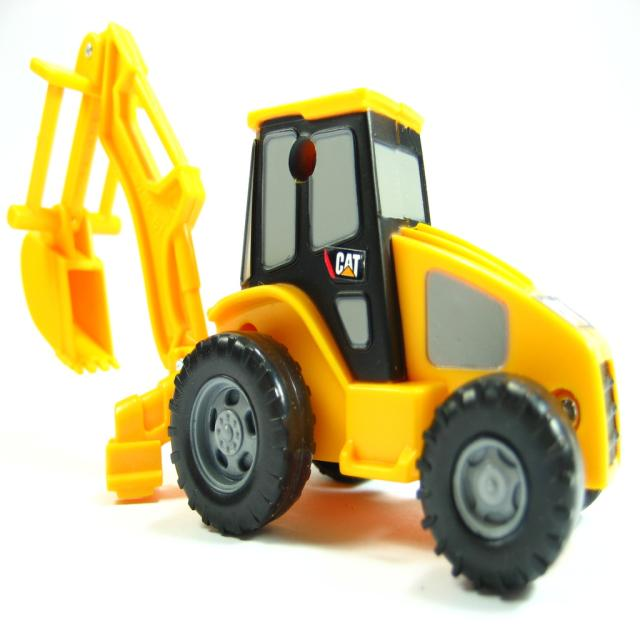Toy: (7, 24, 620, 594)
